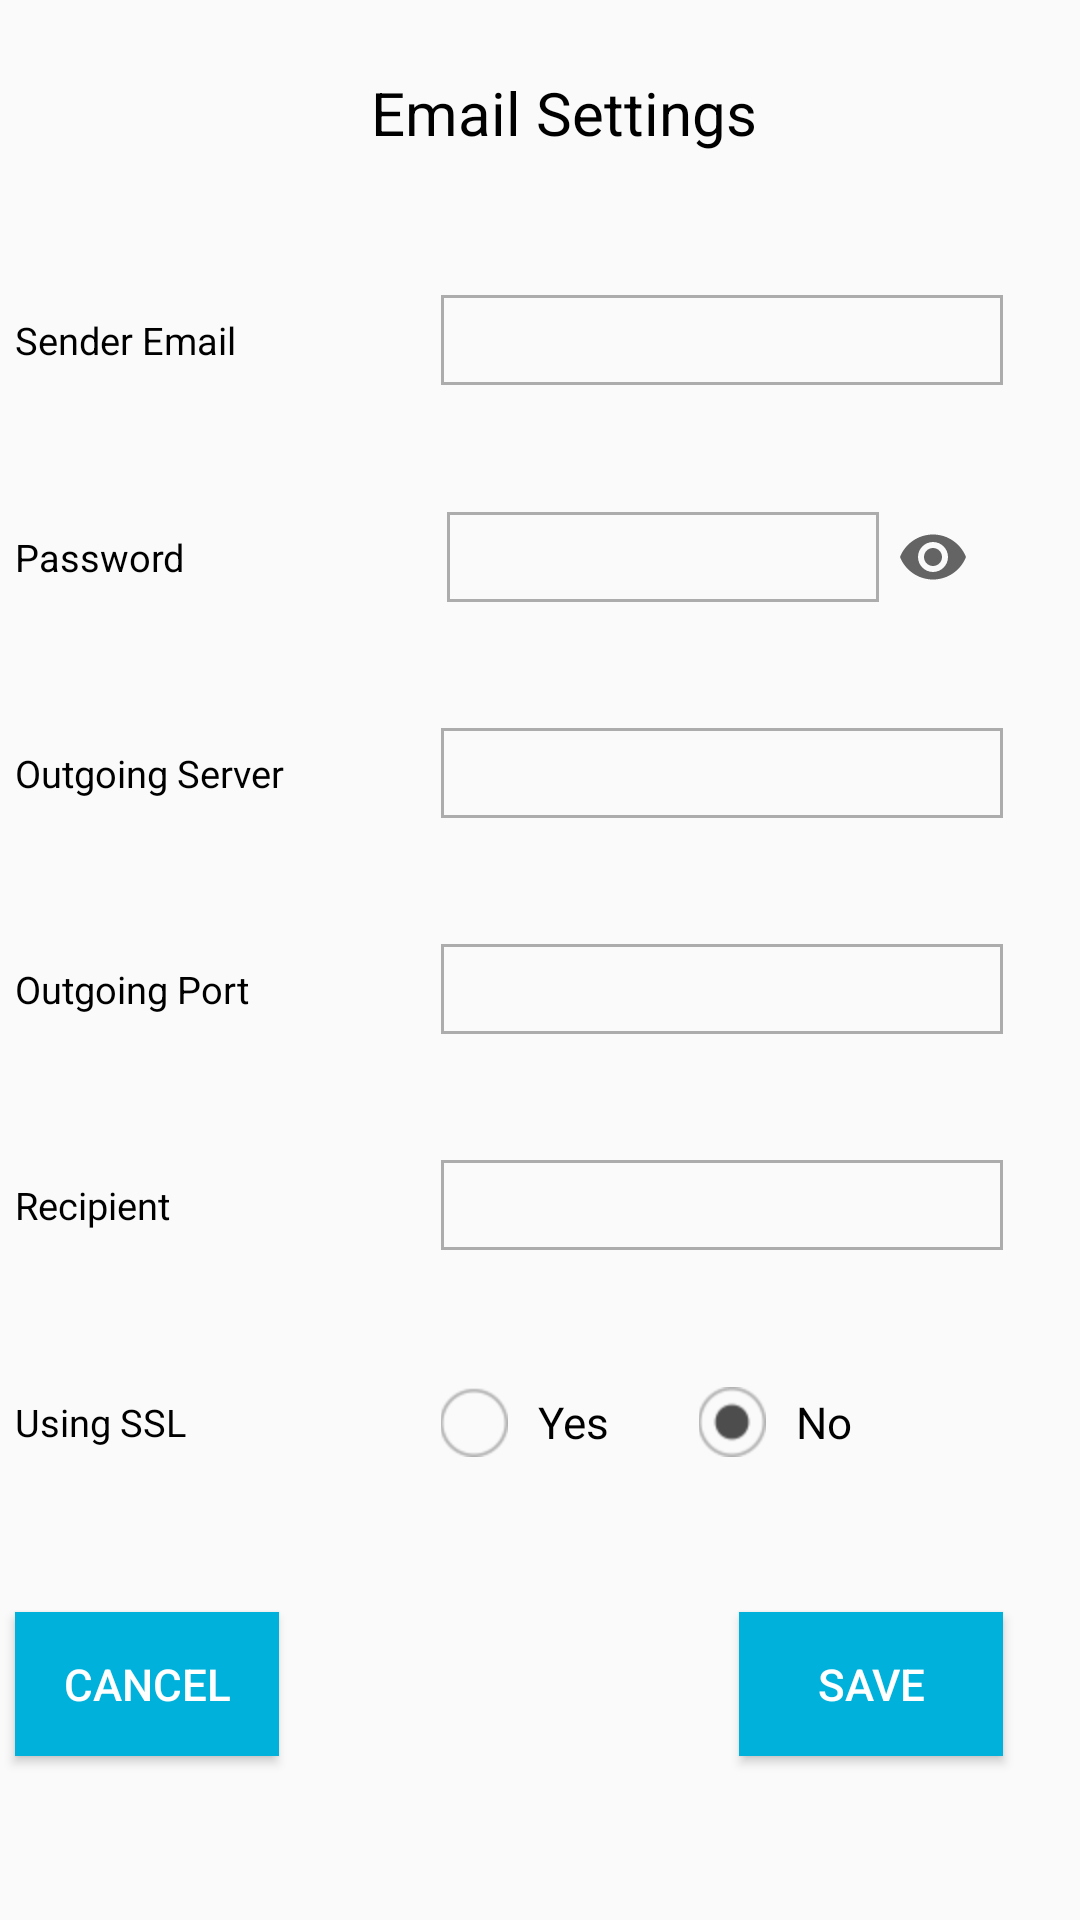

Icons on this 1080px×1920px Android screen, each with the point to tap as (x,y):
show pass: (933,557)
